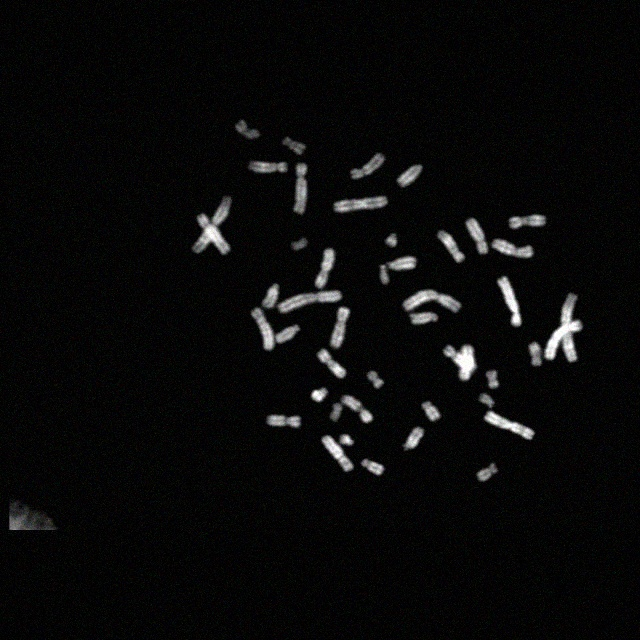chromosome: (191, 195, 231, 253), (544, 320, 582, 360), (278, 290, 342, 312), (484, 412, 534, 440), (196, 213, 229, 255), (401, 290, 461, 312), (498, 277, 524, 327), (560, 293, 578, 362), (321, 435, 353, 473), (249, 308, 273, 350), (341, 394, 373, 424), (437, 230, 465, 264), (443, 344, 477, 372), (351, 153, 385, 180), (334, 195, 388, 212), (330, 306, 350, 348), (317, 349, 345, 379), (315, 248, 335, 288), (492, 238, 532, 258), (467, 218, 488, 254), (294, 163, 308, 214), (458, 344, 474, 382), (398, 163, 422, 187), (402, 427, 424, 451), (248, 161, 286, 173), (275, 323, 299, 342), (509, 216, 546, 228), (283, 136, 305, 156), (262, 284, 280, 308), (386, 256, 416, 270), (237, 121, 259, 139), (361, 458, 383, 476), (268, 415, 300, 427), (478, 462, 498, 480), (422, 402, 440, 421), (409, 312, 437, 324), (368, 370, 384, 388), (530, 342, 542, 366), (310, 388, 328, 402), (486, 370, 499, 388), (480, 394, 494, 408), (331, 404, 342, 421), (380, 266, 390, 284), (386, 233, 398, 247), (291, 240, 307, 250), (340, 435, 354, 445)
